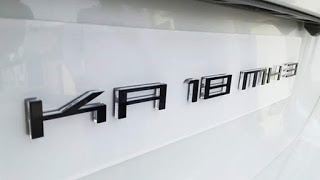plate: (18, 34, 320, 158)
